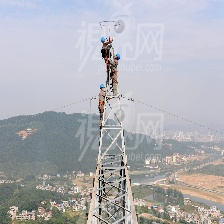helmet: (99, 84, 106, 91), (116, 52, 121, 60), (100, 37, 106, 43)
person: (99, 36, 112, 79), (111, 52, 121, 98), (97, 82, 106, 129)
